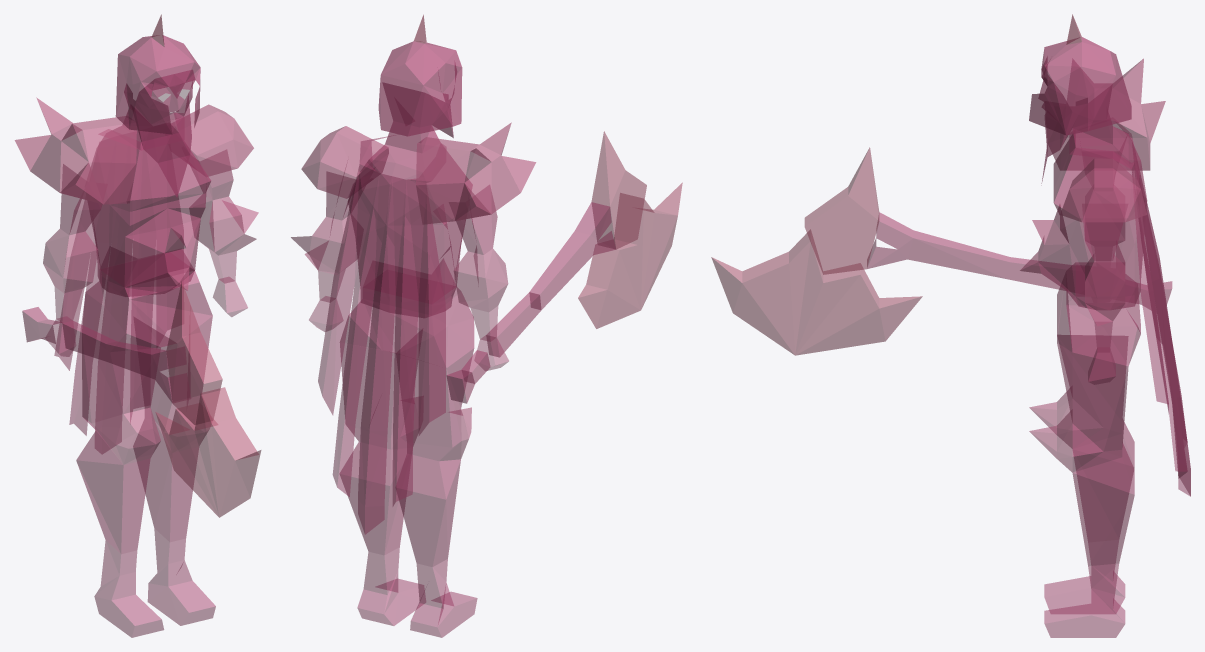
File: barrow_wight.gltf
The picture shows the model from 3 angles, left to right: view 1: azimuth 30°, elevation 25°; view 2: azimuth 150°, elevation 25°; view 3: azimuth 270°, elevation 25°; orthographic projection.
Size of the model in its own units: 80 by 214 by 154.
Materials: 1 (1 with a texture image).
